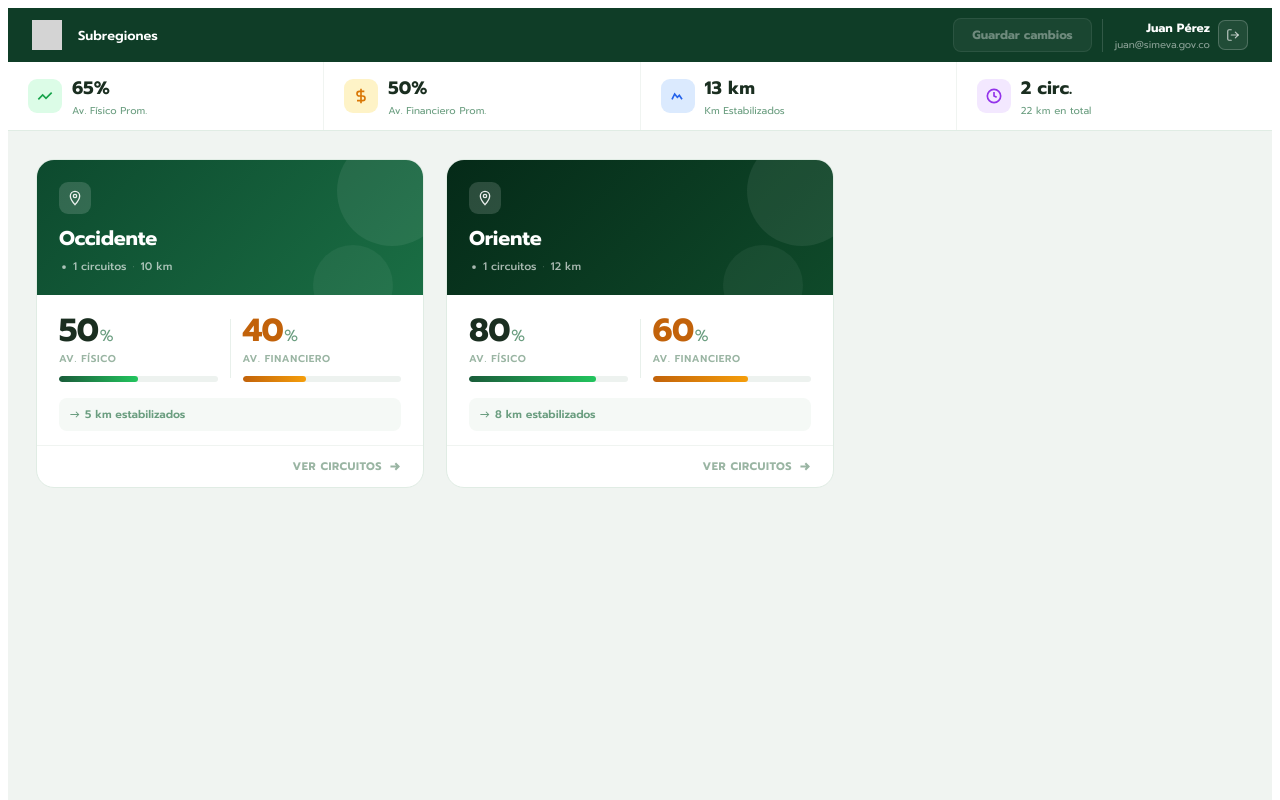
Test: AdminGeoJsonView — con sesión autenticada › vuelve a la vista de subregiones desde la tabla
The image size is (1280, 800).
Click the element with class "subcard" that starts with "Occidente" at [230, 324], box 36,159 -> 424,488
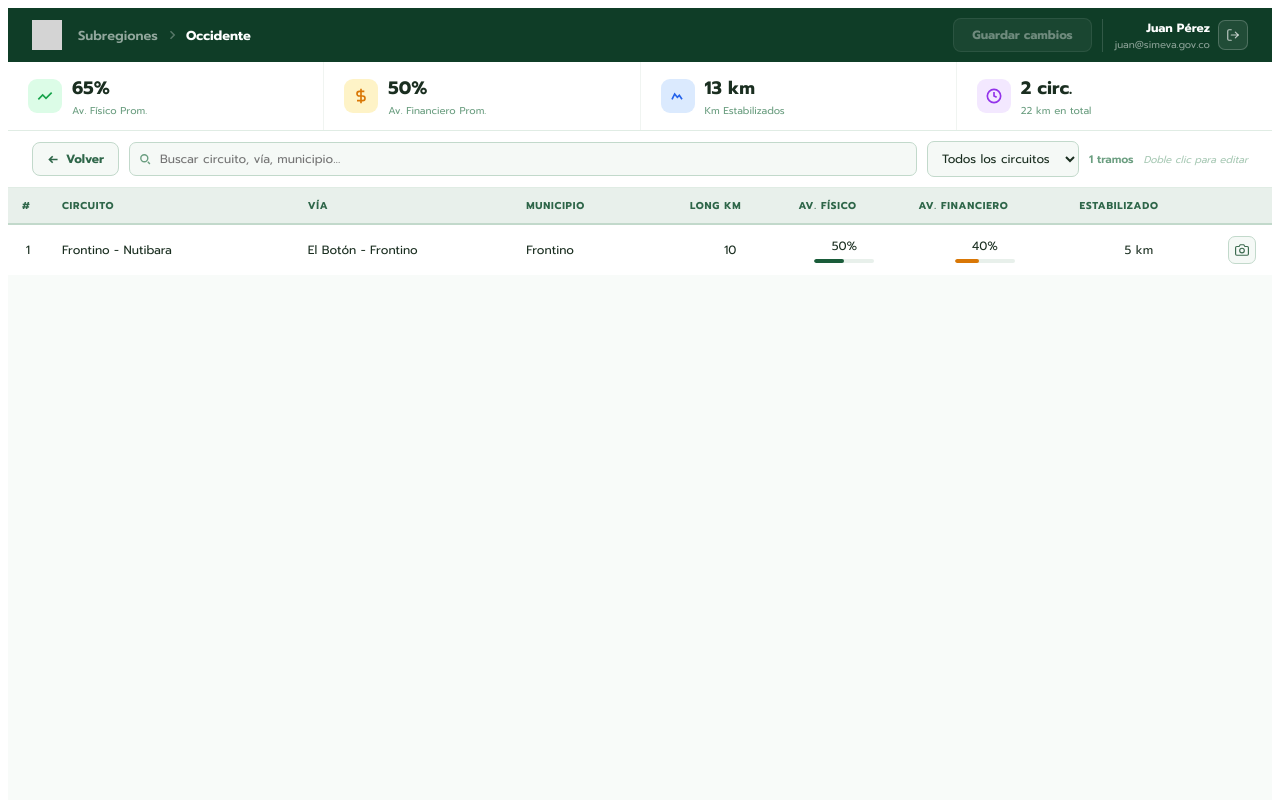
Click the button with class "btn-back" at [76, 159], box 32,142 -> 119,176
(page scrolled)
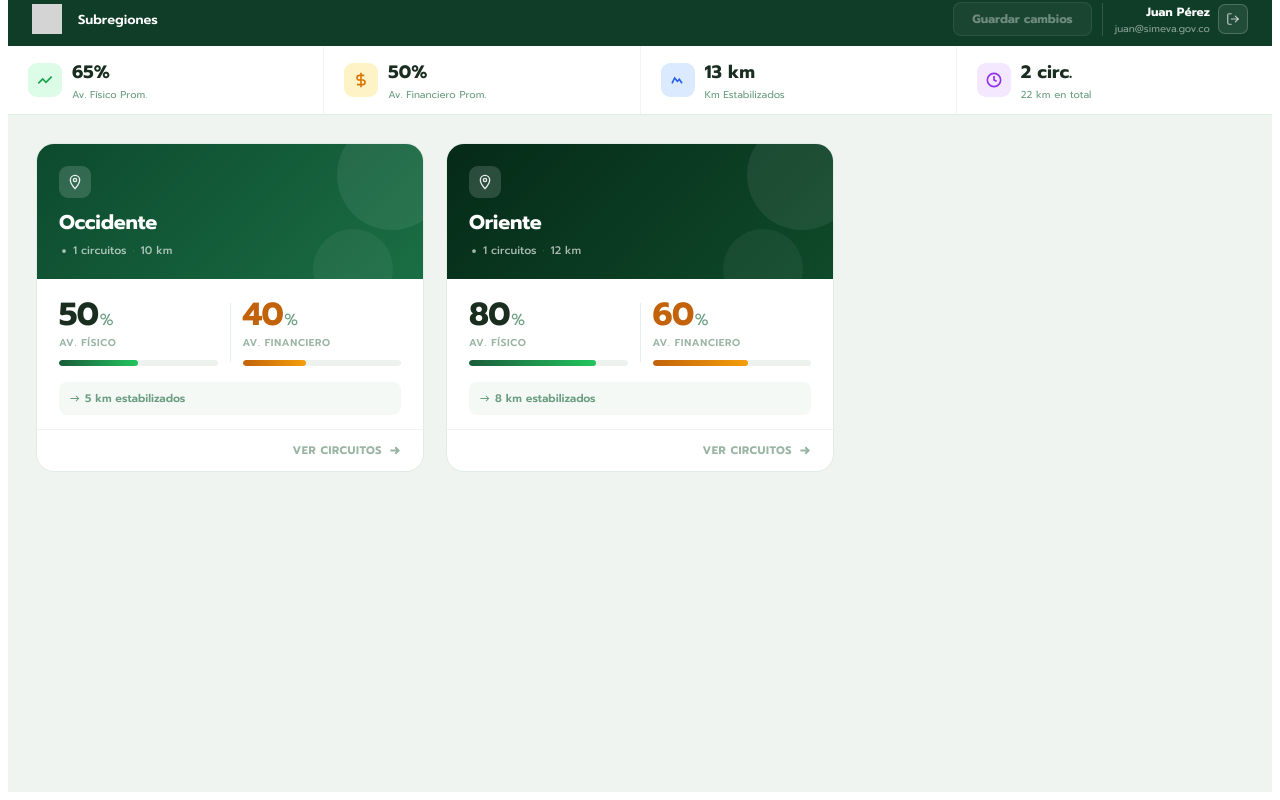
Check: the element that starts with "Occidente" is shown, box 36,143 -> 834,472
